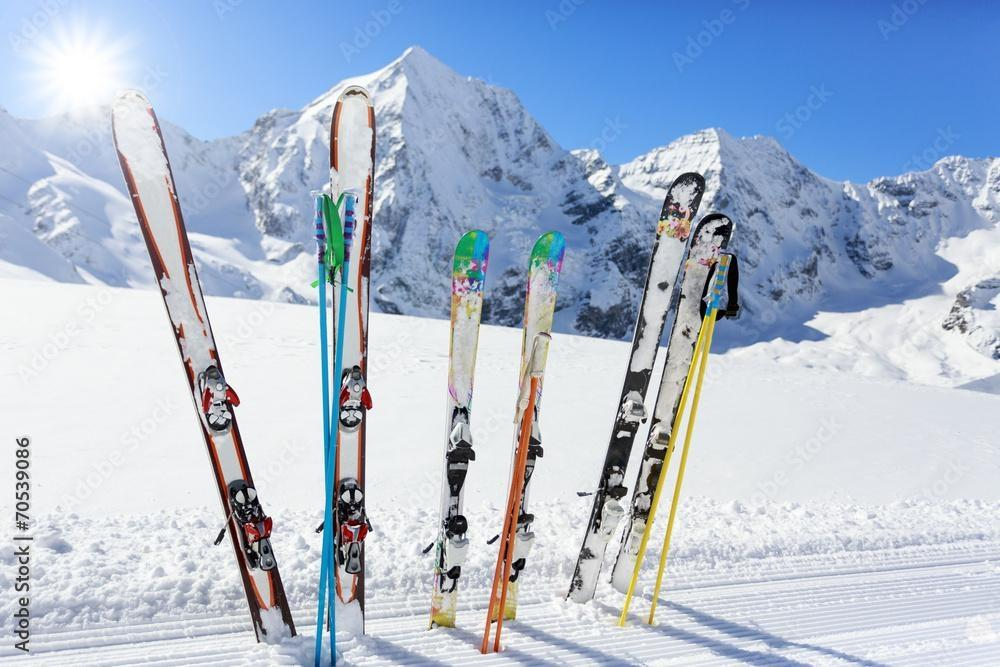Skis: (100, 63, 392, 648)
